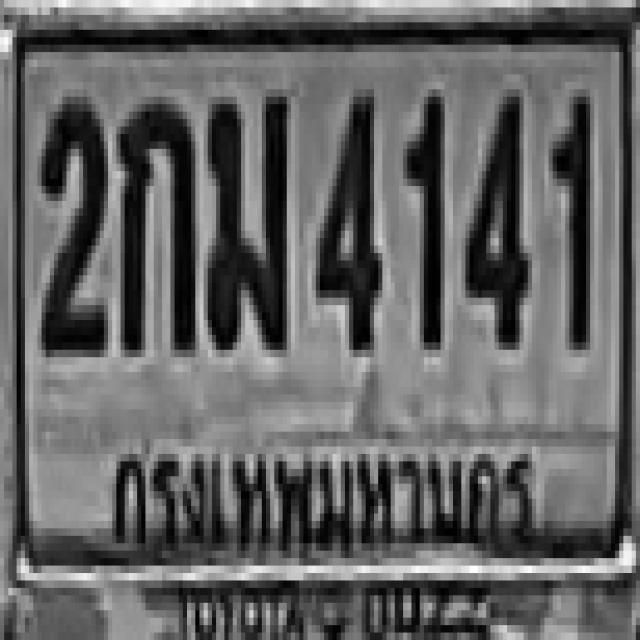1: (553, 97, 591, 350), (405, 97, 442, 350)
10GorGai: (116, 102, 198, 360)
2: (41, 95, 107, 355)
4: (316, 96, 382, 356), (464, 91, 526, 352)
42MorMa: (204, 96, 288, 352)
Bangkok: (96, 424, 536, 566)
